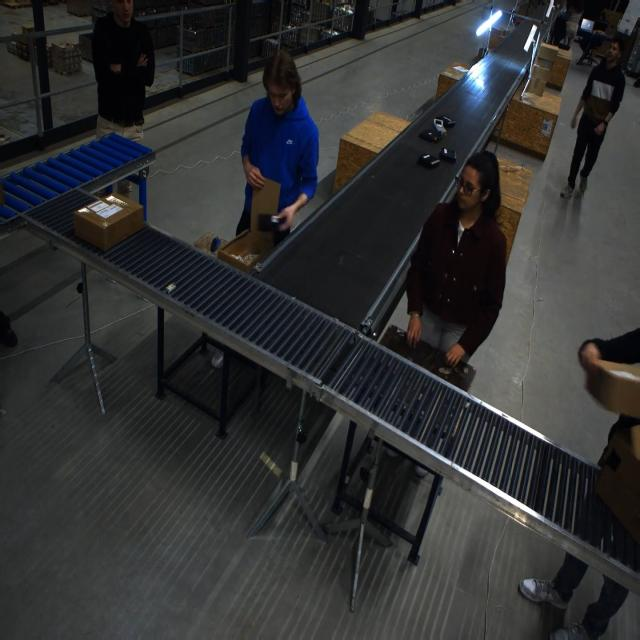box: (586, 362, 640, 570), (215, 177, 281, 273), (73, 193, 144, 253), (524, 74, 547, 97), (528, 63, 550, 84), (536, 42, 558, 61), (532, 56, 554, 71)
product: (418, 128, 443, 143), (417, 154, 440, 169), (434, 115, 455, 128), (438, 147, 456, 162), (433, 118, 445, 136)
